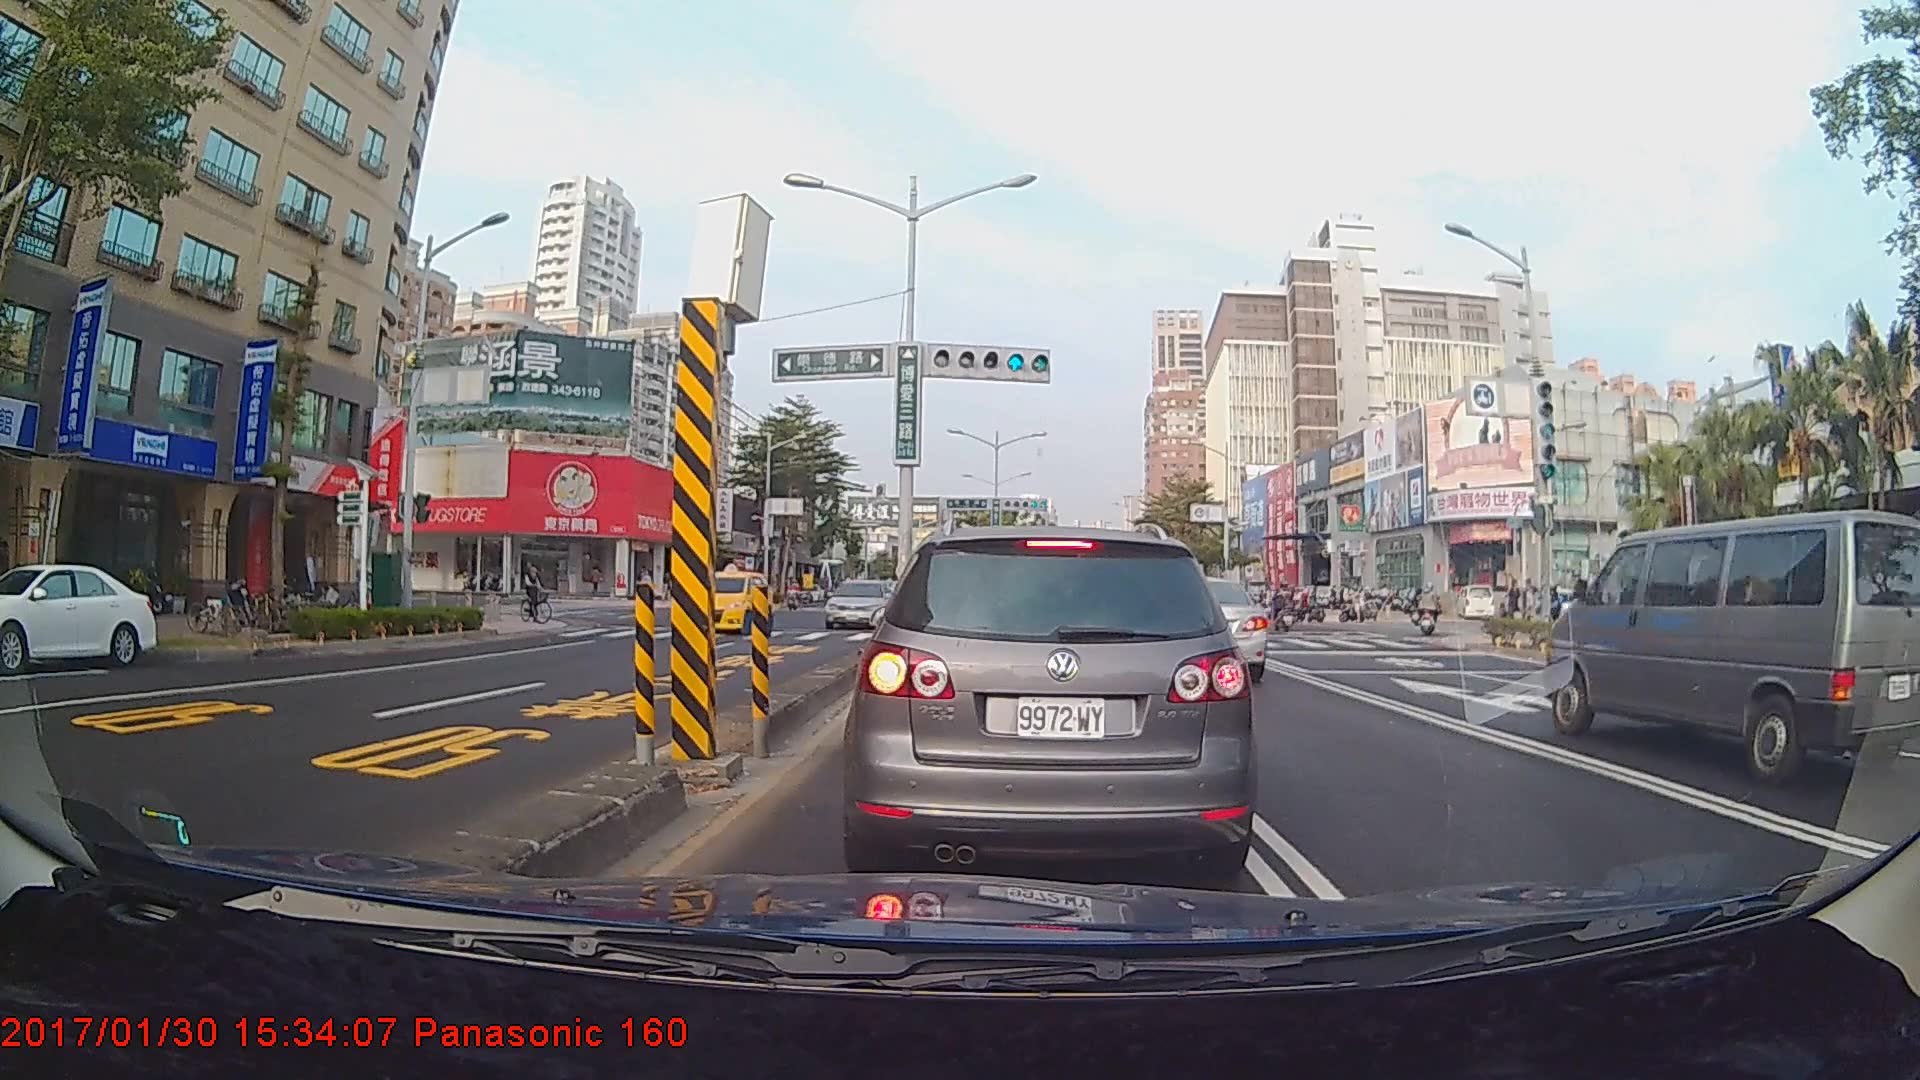rider: (518, 559, 561, 629), (1265, 581, 1305, 637), (1414, 582, 1442, 640)
vehicle: (851, 520, 1249, 874), (1542, 505, 1920, 786), (1106, 576, 1267, 687), (0, 561, 159, 671), (675, 567, 773, 634), (823, 578, 897, 629)
